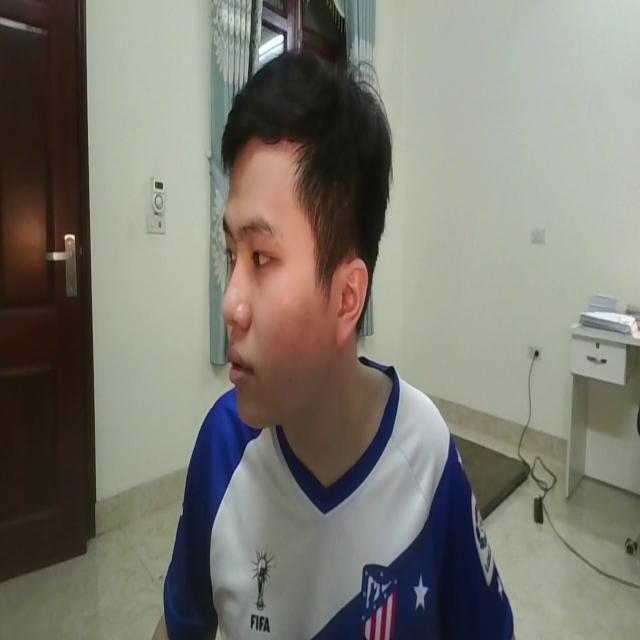student: (144, 41, 522, 640)
